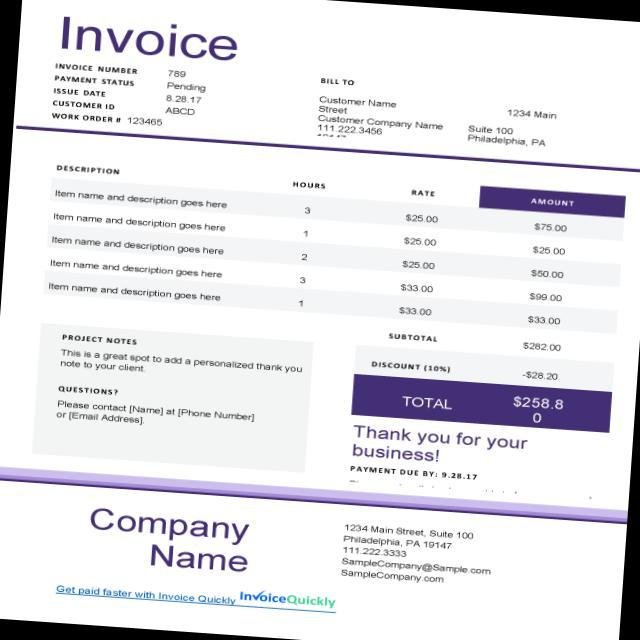customer_address: (458, 101, 580, 151)
customer_name: (314, 90, 400, 110)
due_date: (439, 468, 483, 482)
invoice_number: (167, 68, 191, 78)
invoice_subtotal: (521, 337, 564, 356)
invoice_total: (510, 391, 570, 412)
item_description: (38, 187, 238, 308)
item_quantity: (294, 203, 316, 310)
item_total_price: (524, 218, 574, 328)
item_unit_price: (398, 210, 440, 320)
